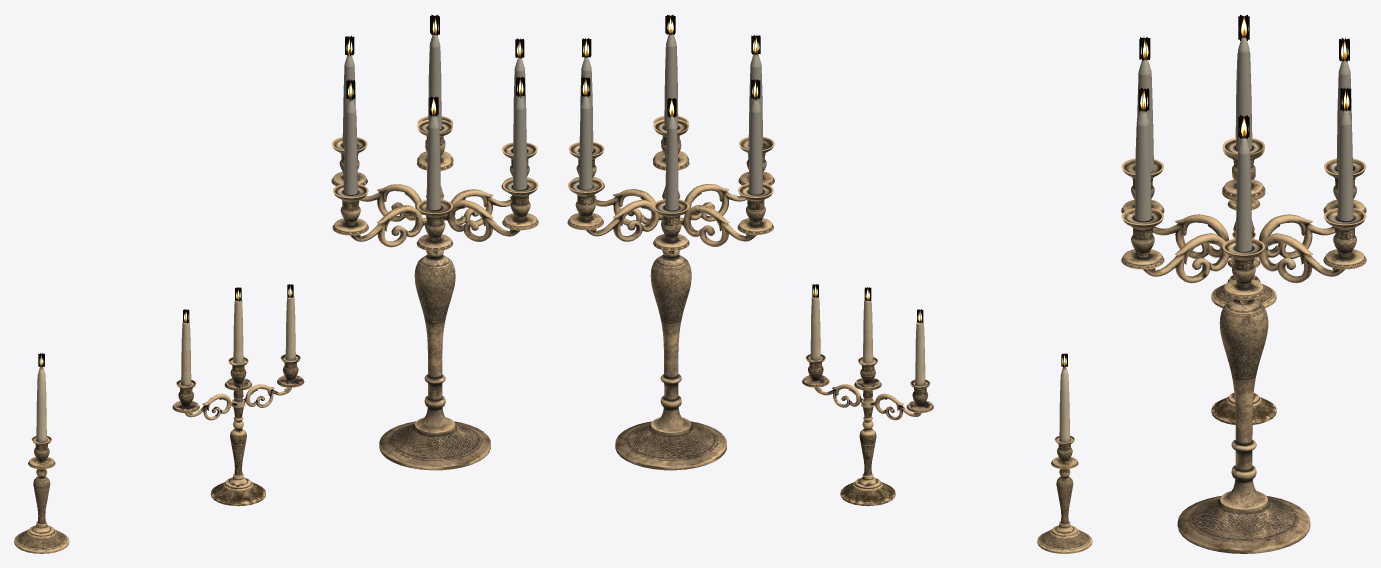
The model's file is brass_candleholders.glb.
3 views of the same model, side by side, from view 1: azimuth 30°, elevation 25°; view 2: azimuth 150°, elevation 25°; view 3: azimuth 270°, elevation 25° (orthographic). The views are drawn at different scales.
Parts seen in each view (by area): view 1: brass_candleholder_03, brass_candleholder_02, brass_candleholder_01; view 2: brass_candleholder_03, brass_candleholder_02, brass_candleholder_01; view 3: brass_candleholder_03, brass_candleholder_02, brass_candleholder_01.
Part boxes in pixels (x1,y1,x2,y2): brass_candleholder_03: [331, 14, 538, 470]; brass_candleholder_02: [172, 284, 304, 506]; brass_candleholder_01: [14, 353, 69, 553]; brass_candleholder_03: [567, 14, 774, 470]; brass_candleholder_02: [802, 284, 933, 505]; brass_candleholder_01: [1037, 353, 1092, 553]; brass_candleholder_03: [1121, 15, 1366, 553]; brass_candleholder_02: [1211, 232, 1276, 424]; brass_candleholder_01: [1211, 174, 1276, 307].
Bounding box in the file's own units: 1.05 × 0.8353 × 0.3647.
5 materials, 5 textured.
